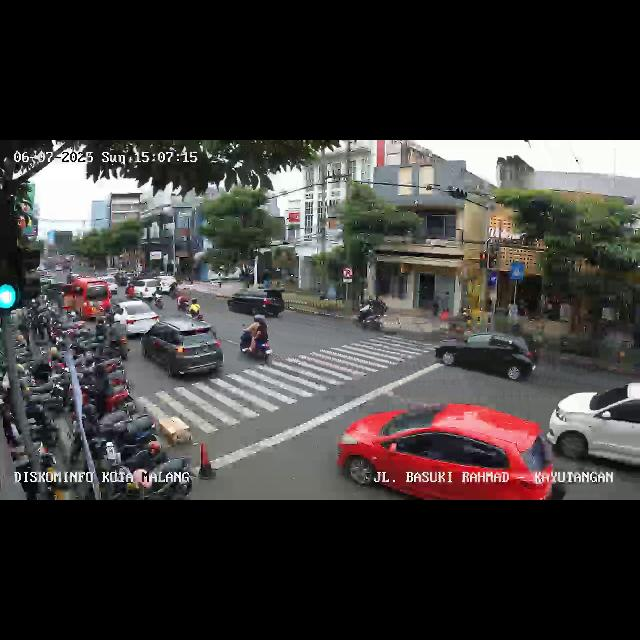car: (337, 402, 556, 500), (546, 382, 638, 478), (434, 330, 538, 386), (142, 320, 226, 380), (60, 278, 111, 320), (109, 300, 159, 336), (228, 288, 284, 320), (128, 278, 164, 304)
motorcycle: (239, 315, 273, 365), (357, 296, 388, 332), (177, 284, 190, 316), (188, 292, 202, 320)
